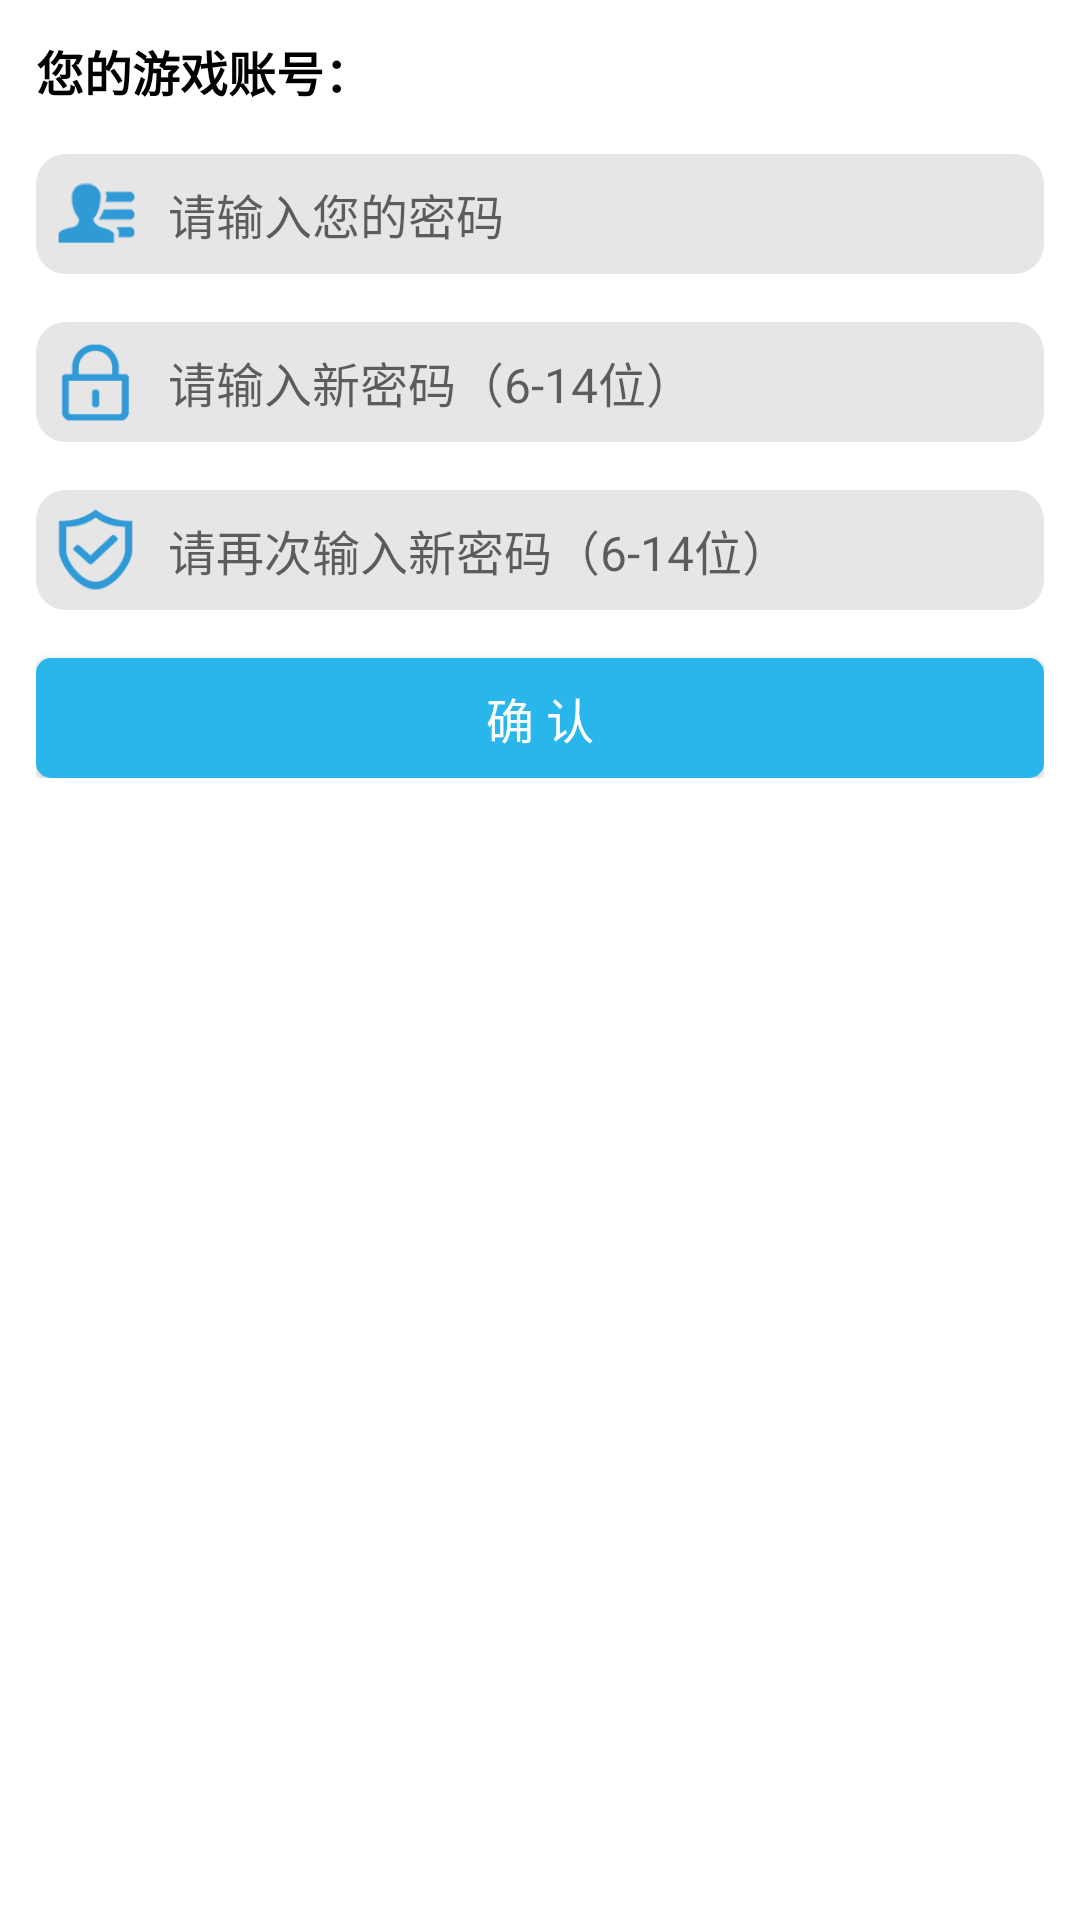

Point at icon controls on the screen. Image size 1080w x 1920h, points as point (x, y).
再次新密码图标: point (95, 549)
新密码图标: point (95, 382)
